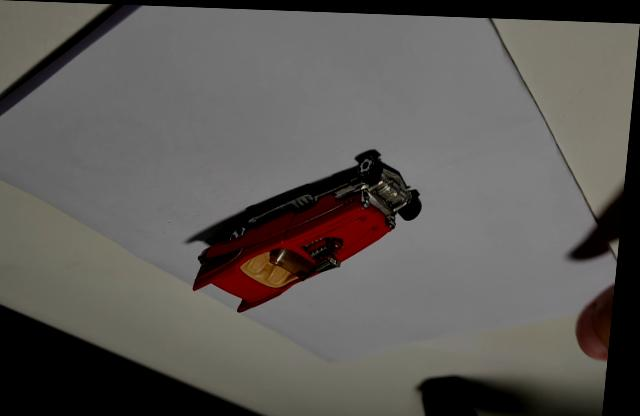03_V8: (196, 146, 426, 310)
